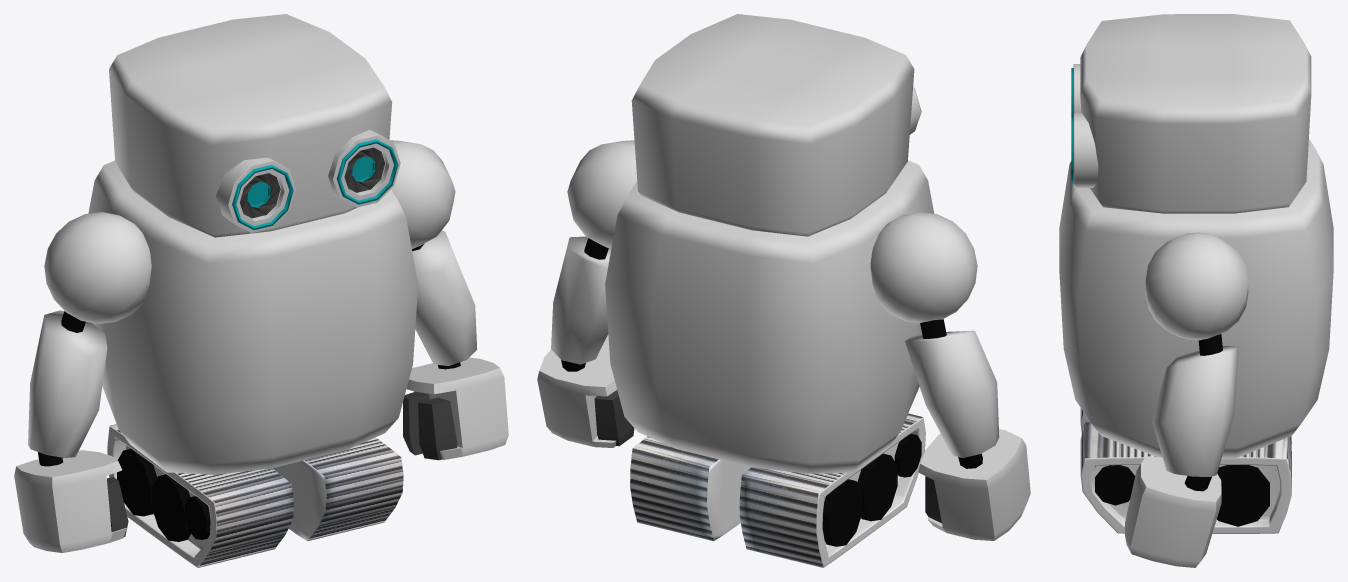
The model's file is 1Brute.fbx.
The picture shows the model from 3 angles, left to right: view 1: azimuth 30°, elevation 25°; view 2: azimuth 150°, elevation 25°; view 3: azimuth 270°, elevation 25°; orthographic projection. The views are drawn at different scales.
Visible parts, largest first — view 1: polySurface36, polySurface38, polySurface40, polySurface67, polySurface39, polySurface55, polySurface63, polySurface54, polySurface57, polySurface61, polySurface50, polySurface47 (+10 smaller); view 2: polySurface36, polySurface38, polySurface40, polySurface67, polySurface39, polySurface63, polySurface55, polySurface54, polySurface57, polySurface61, polySurface42, polySurface44 (+2 smaller); view 3: polySurface36, polySurface38, polySurface61, polySurface54, polySurface57, polySurface39, polySurface41, polySurface47, polySurface45, polySurface60, polySurface50.
Part boxes in pixels (box(x1,y1,x2,y2)): polySurface36: box(88, 160, 418, 474); polySurface38: box(109, 14, 392, 237); polySurface40: box(107, 424, 293, 567); polySurface67: box(44, 212, 151, 323); polySurface39: box(272, 437, 403, 541); polySurface55: box(28, 310, 107, 457); polySurface63: box(14, 450, 126, 552); polySurface54: box(412, 230, 477, 365); polySurface57: box(406, 357, 508, 459); polySurface61: box(389, 140, 455, 249); polySurface50: box(216, 157, 295, 233); polySurface47: box(328, 129, 400, 207); polySurface36: box(605, 160, 934, 473); polySurface38: box(631, 14, 914, 236); polySurface40: box(739, 413, 925, 567); polySurface67: box(870, 212, 977, 323); polySurface39: box(630, 436, 750, 541); polySurface63: box(918, 429, 1030, 540); polySurface55: box(905, 330, 999, 457); polySurface54: box(551, 236, 611, 364); polySurface57: box(537, 334, 616, 447); polySurface61: box(567, 140, 637, 249); polySurface42: box(822, 479, 862, 546); polySurface44: box(857, 453, 897, 521); polySurface36: box(1059, 139, 1333, 459); polySurface38: box(1080, 14, 1311, 213); polySurface61: box(1145, 232, 1248, 340); polySurface54: box(1152, 345, 1238, 476); polySurface57: box(1125, 456, 1221, 567); polySurface39: box(1080, 422, 1291, 533); polySurface41: box(1217, 465, 1269, 526); polySurface47: box(1073, 113, 1098, 187); polySurface45: box(1095, 465, 1135, 505); polySurface60: box(1198, 334, 1222, 355); polySurface50: box(1073, 64, 1081, 113).
Size of the model in its own units: 2.74 by 2.52 by 1.46.
